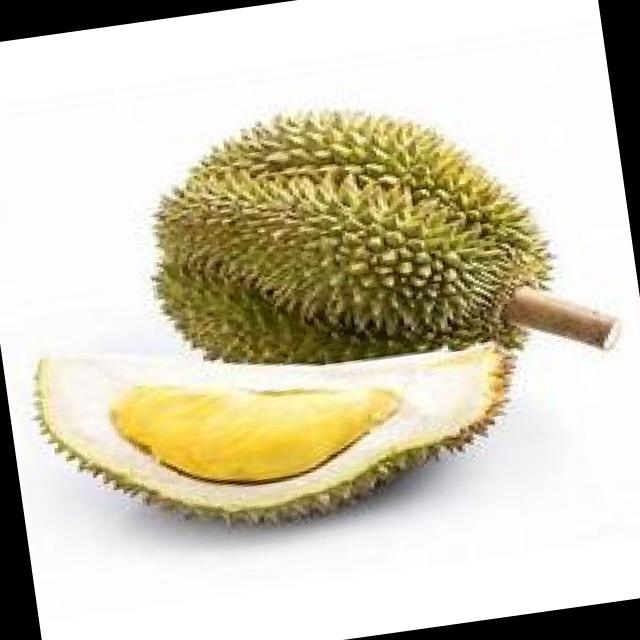fruit: (150, 33, 590, 401)
